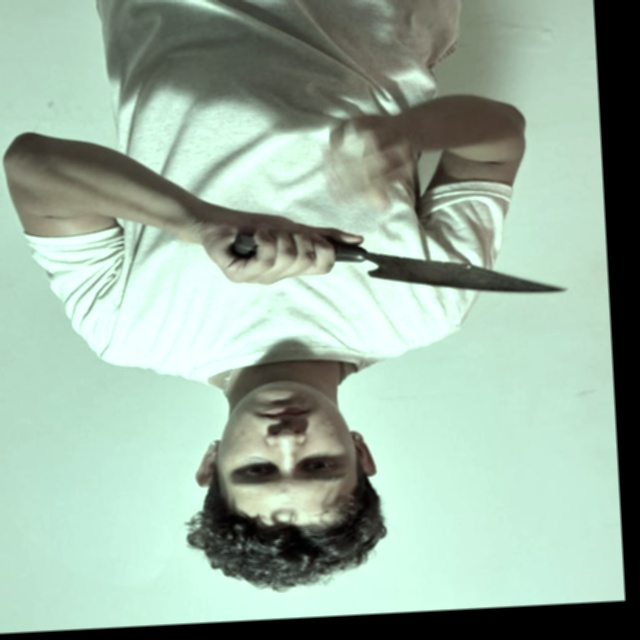Sharp-Object: (367, 244, 564, 305)
